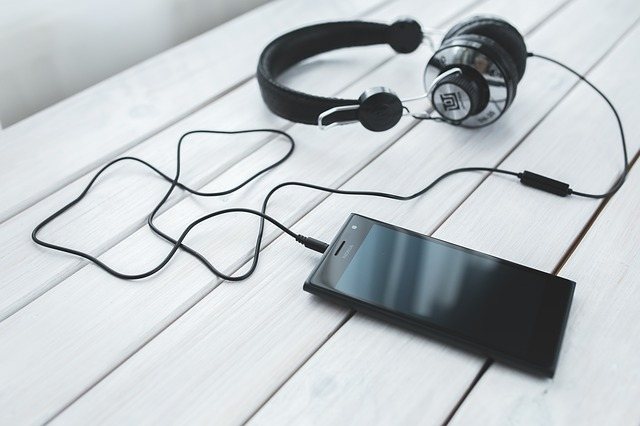headphones: (256, 16, 528, 133)
